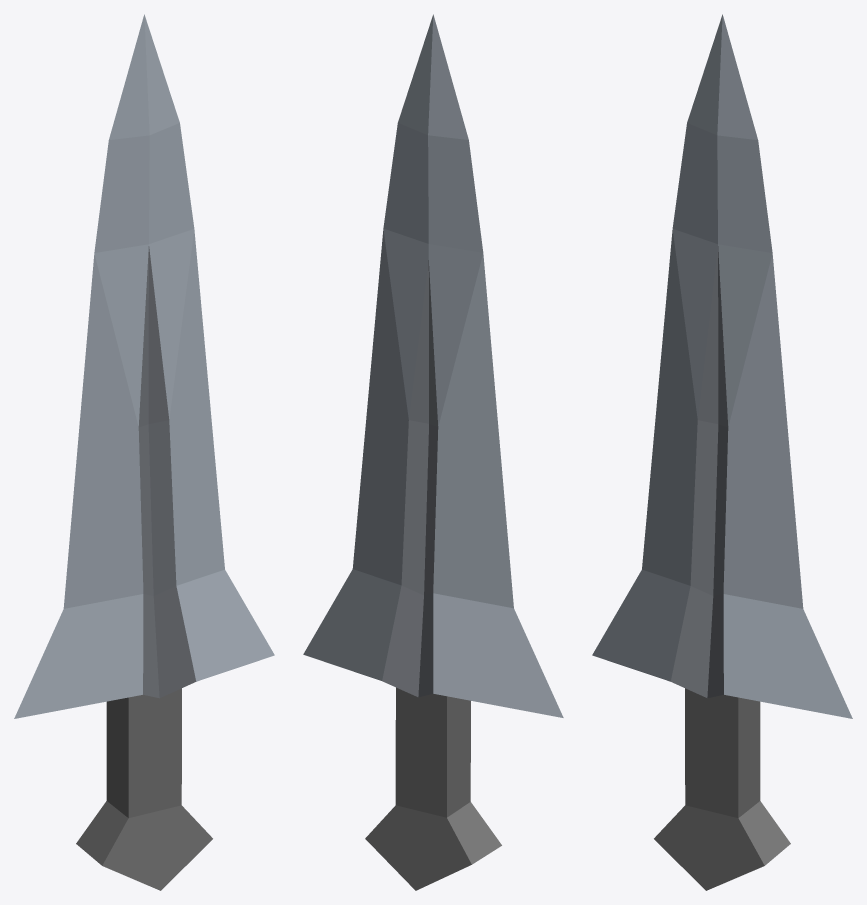
File: Kunai_F_AD_009.fbx
The picture shows the model from 3 angles, left to right: view 1: azimuth 30°, elevation 25°; view 2: azimuth 150°, elevation 25°; view 3: azimuth 330°, elevation 25°; orthographic projection.
Visible parts, largest first — view 1: Kunai_F_AD_009; view 2: Kunai_F_AD_009; view 3: Kunai_F_AD_009.
Boxes of the visible parts, bbox=[...] form: Kunai_F_AD_009: bbox=[14, 14, 274, 890]; Kunai_F_AD_009: bbox=[303, 14, 563, 890]; Kunai_F_AD_009: bbox=[592, 14, 852, 890].
Size of the model in its own units: 0.1127 by 0.3571 by 0.0382.
